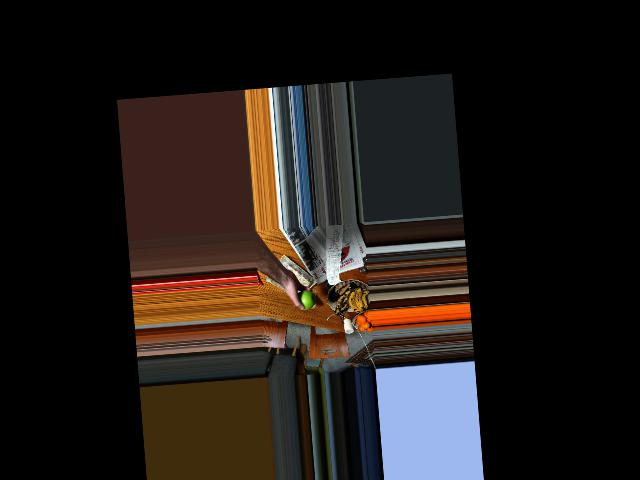apple: (294, 286, 316, 311)
